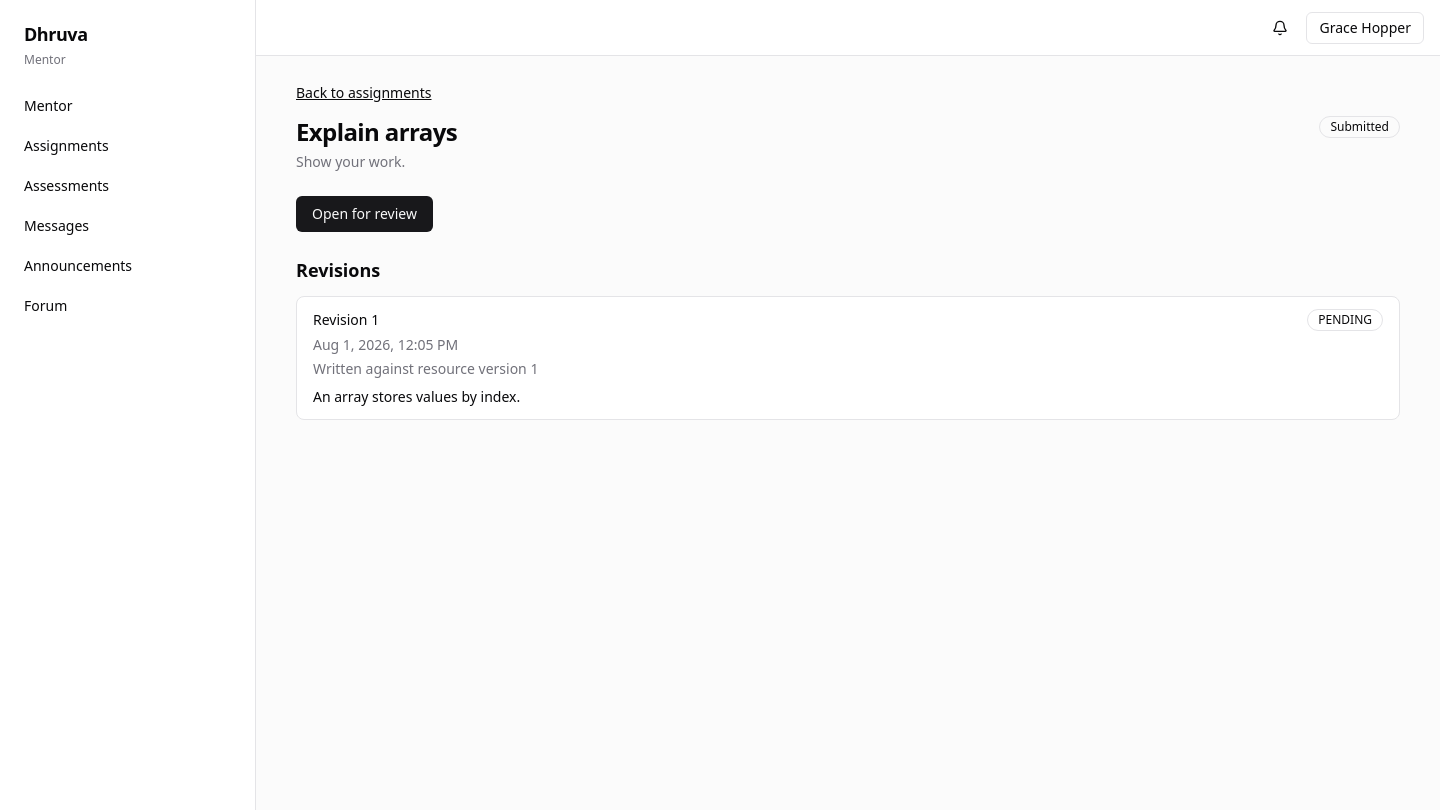
Test case: mentor review › opens a submission and approves it with feedback and a score
The image size is (1440, 810).
Click the button "Open for review" at (364, 214), box x1=296 y1=196 x2=433 y2=232
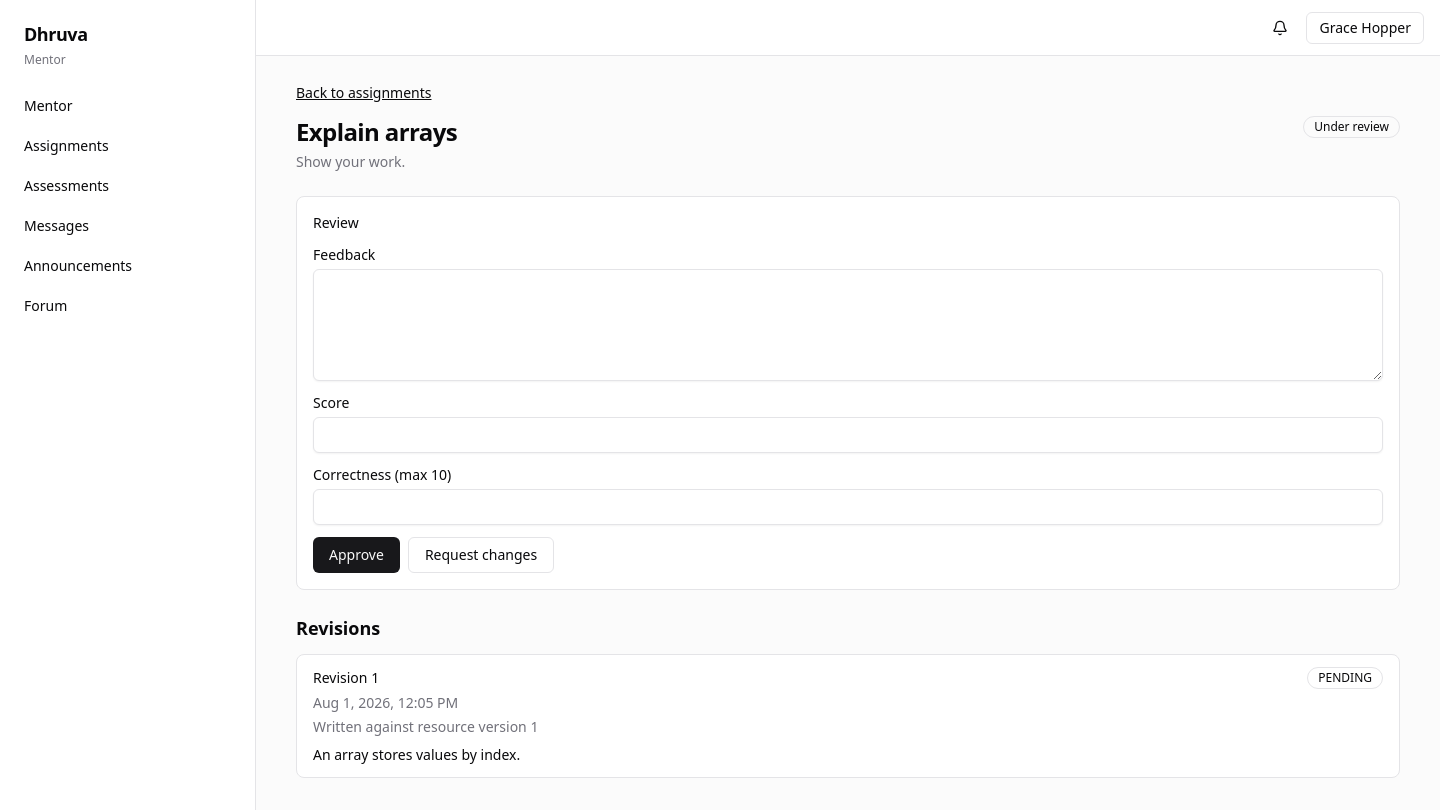
Type "Clear explanation." into the text box labelled "Feedback" at (848, 325), box x1=313 y1=269 x2=1383 y2=381
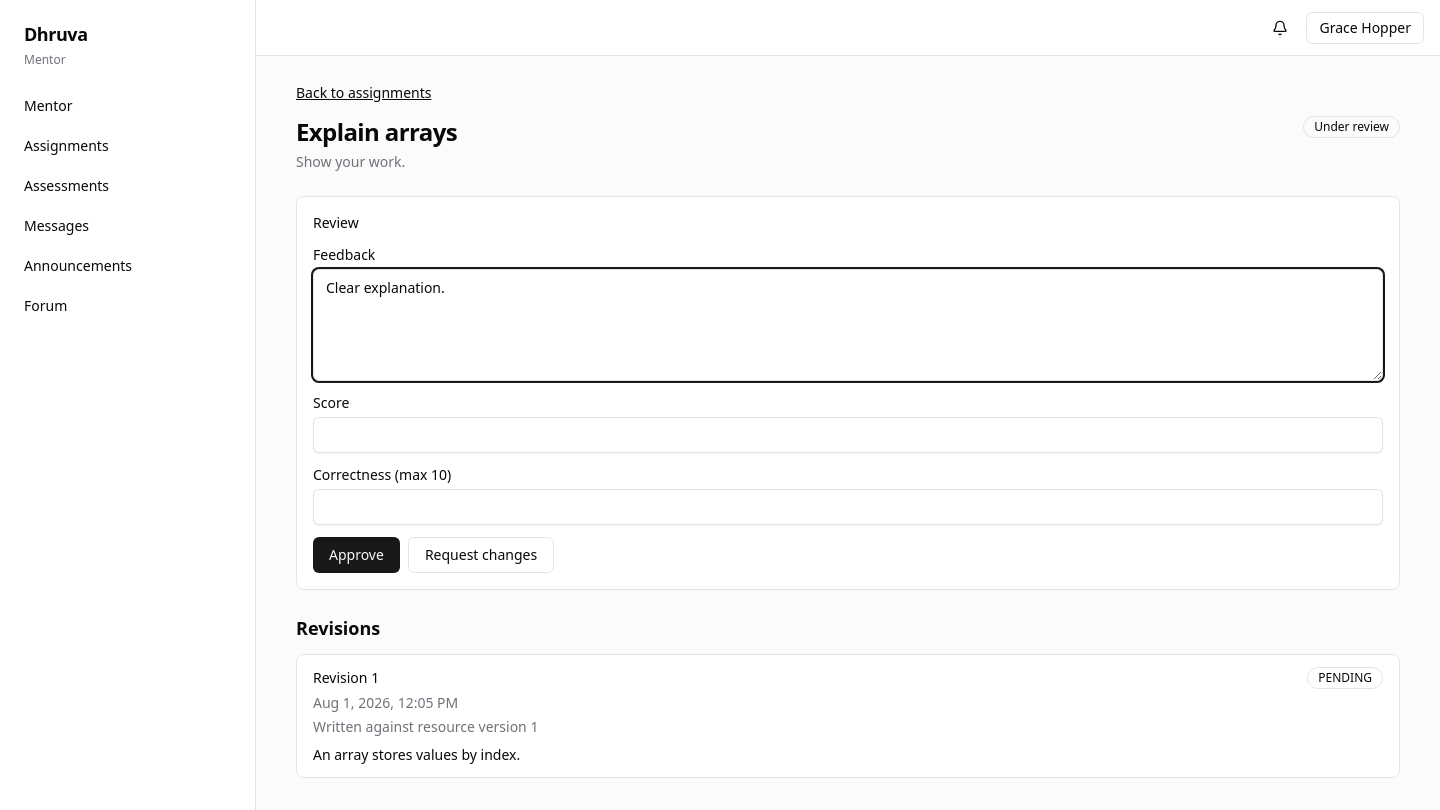
Type "8" into the number field labelled "Score" at (848, 435), box x1=313 y1=417 x2=1383 y2=453
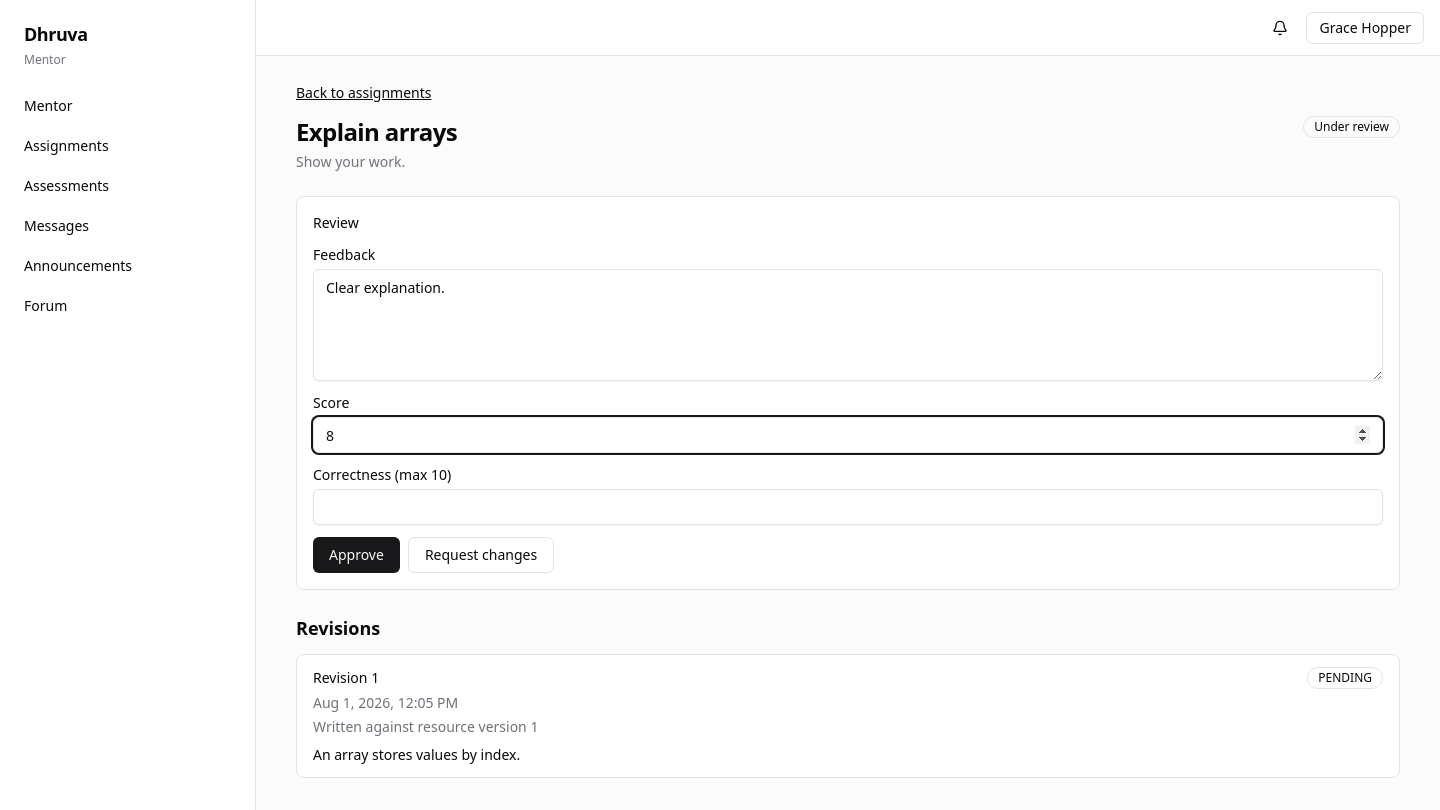
Click the button "Approve" at (356, 555), box x1=313 y1=537 x2=400 y2=573
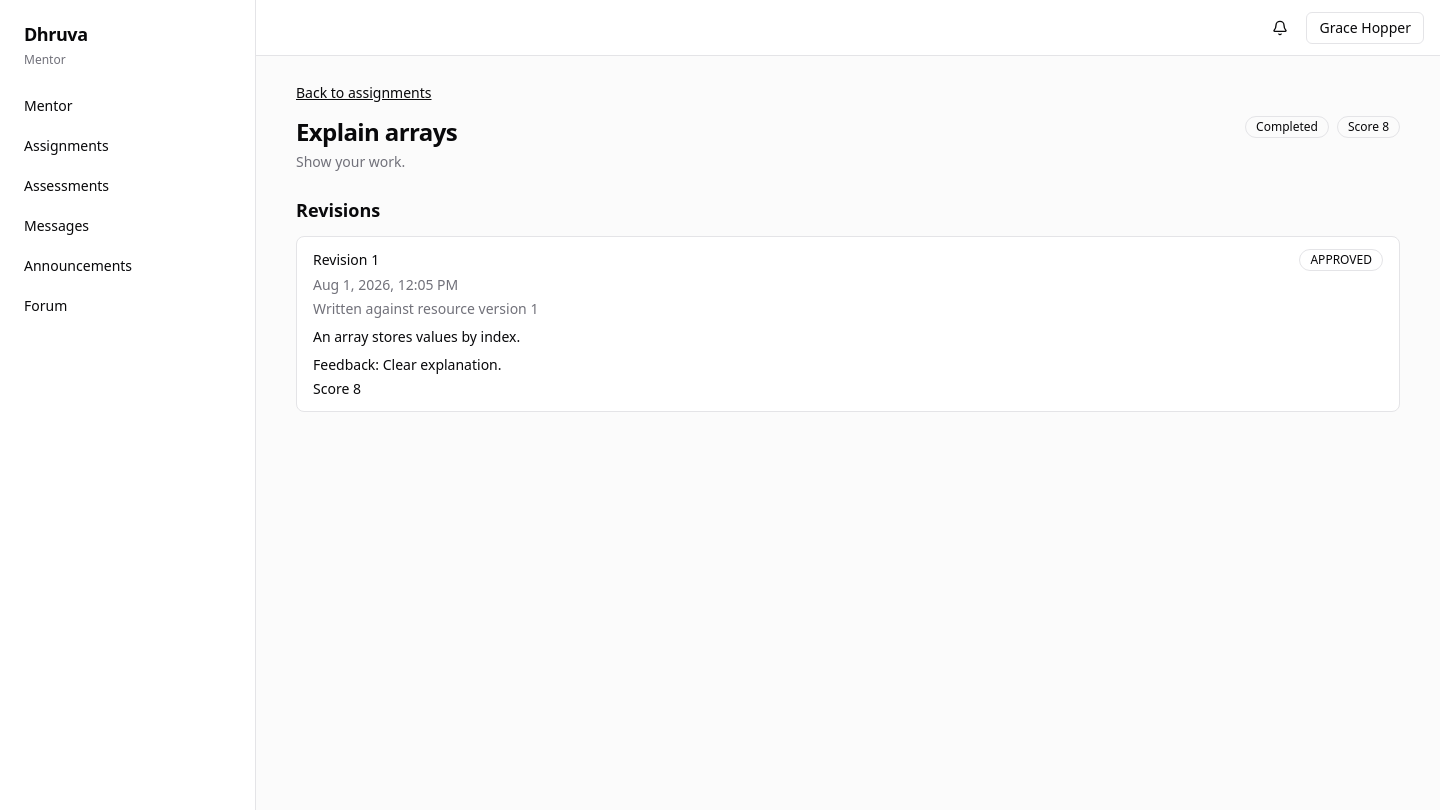
Expected: the text "Completed" is shown, x1=1245 y1=116 x2=1329 y2=138
Expected: the text "Feedback: Clear explanation." is shown, x1=313 y1=355 x2=502 y2=374
